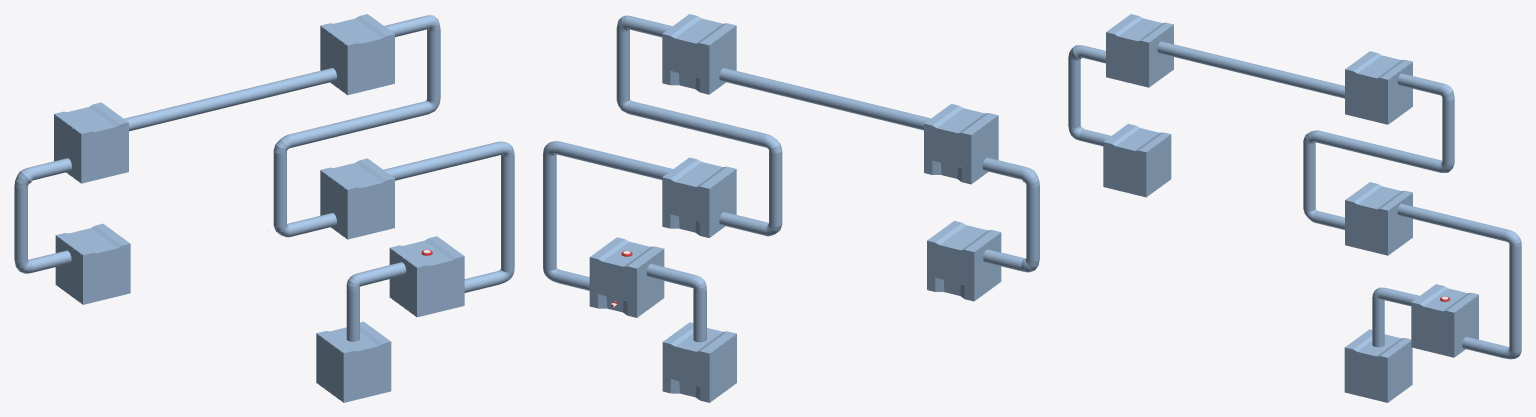
File: diagrama_tanque.glb
3 renders of one model, left to right at view 1: azimuth 30°, elevation 25°; view 2: azimuth 150°, elevation 25°; view 3: azimuth 330°, elevation 25°, orthographic. The views are drawn at different scales.
Visible parts, largest first — view 1: Cylinder.004; view 2: Cylinder.004; view 3: Cylinder.004.
Boxes of the visible parts, left/top/right/bottom form: Cylinder.004: left=14, top=14, right=514, bottom=402; Cylinder.004: left=543, top=14, right=1039, bottom=402; Cylinder.004: left=1068, top=14, right=1521, bottom=402.
Bounding box in the file's own units: 12.68 × 8.71 × 1.38.
